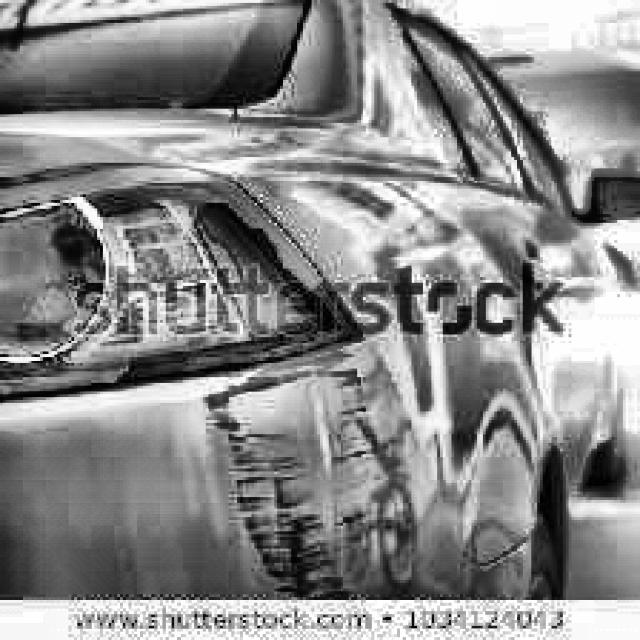tail_lamp: (7, 180, 313, 380)
